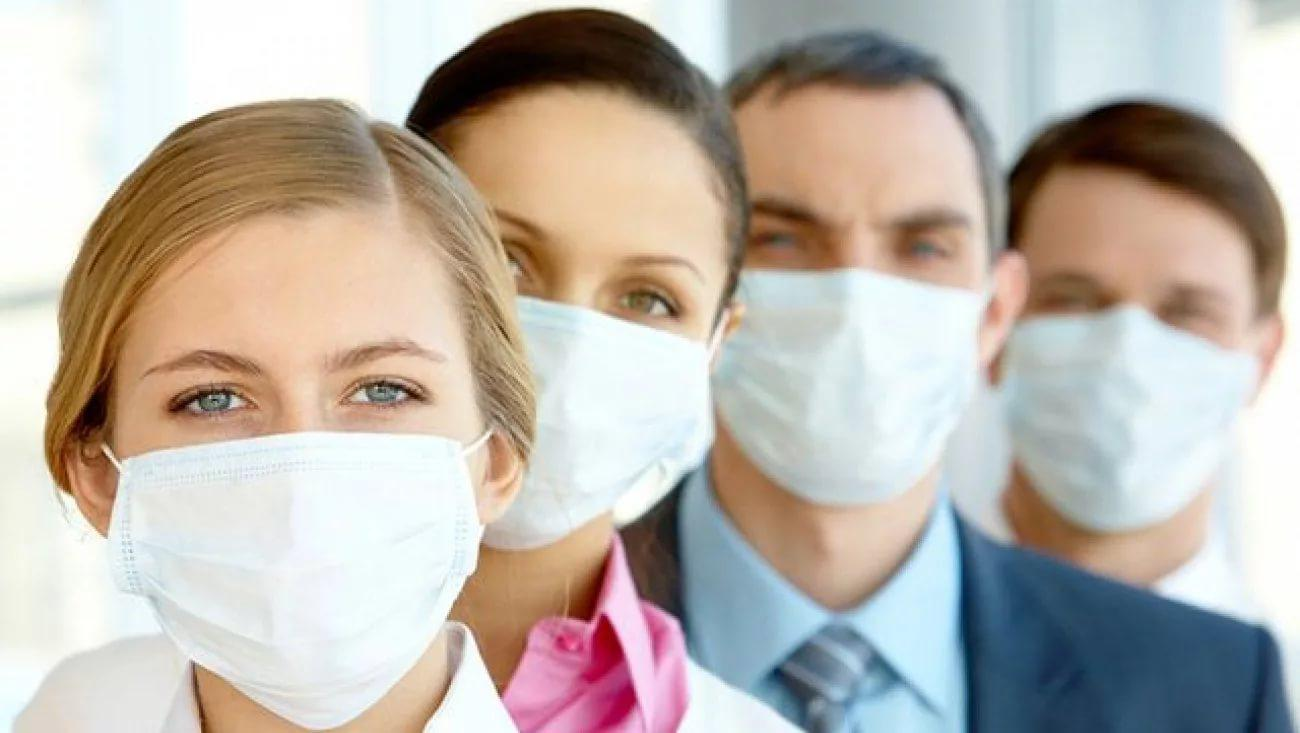mask: (117, 254, 497, 702), (729, 74, 1001, 498), (469, 144, 733, 550), (1002, 147, 1277, 529)
